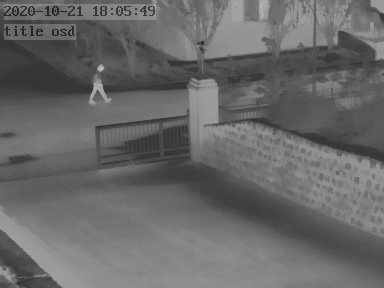person: (90, 63, 108, 103)
